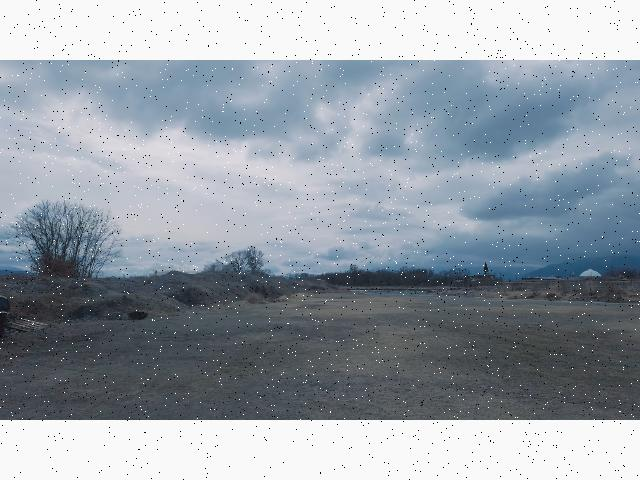Anti-Drone: (312, 278, 328, 284)
